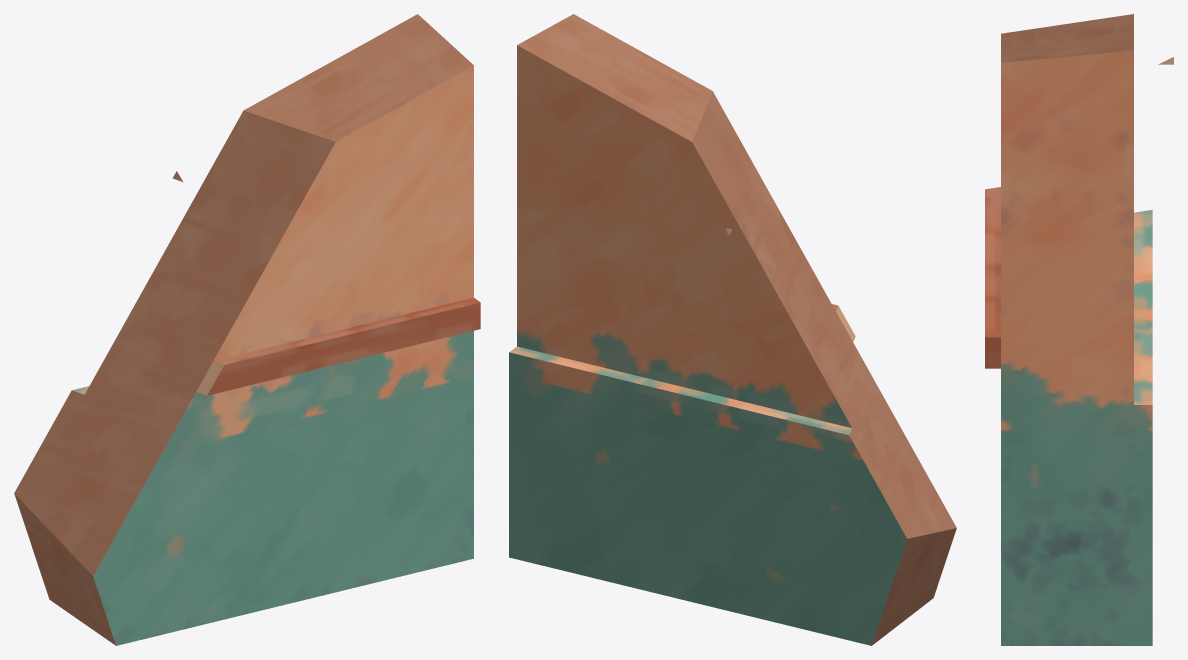
File: wall2_shutter_s01.fbx
The picture shows the model from 3 angles, left to right: view 1: azimuth 30°, elevation 25°; view 2: azimuth 150°, elevation 25°; view 3: azimuth 270°, elevation 25°; orthographic projection. The views are drawn at different scales.
Visible parts, largest first — view 1: wall2_shutter_s01; view 2: wall2_shutter_s01; view 3: wall2_shutter_s01.
Boxes of the visible parts, left/top/right/bottom form: wall2_shutter_s01: left=14, top=14, right=480, bottom=645; wall2_shutter_s01: left=509, top=14, right=956, bottom=645; wall2_shutter_s01: left=985, top=14, right=1173, bottom=645.
Bounding box in the file's own units: 4.06 × 4.94 × 1.42.
